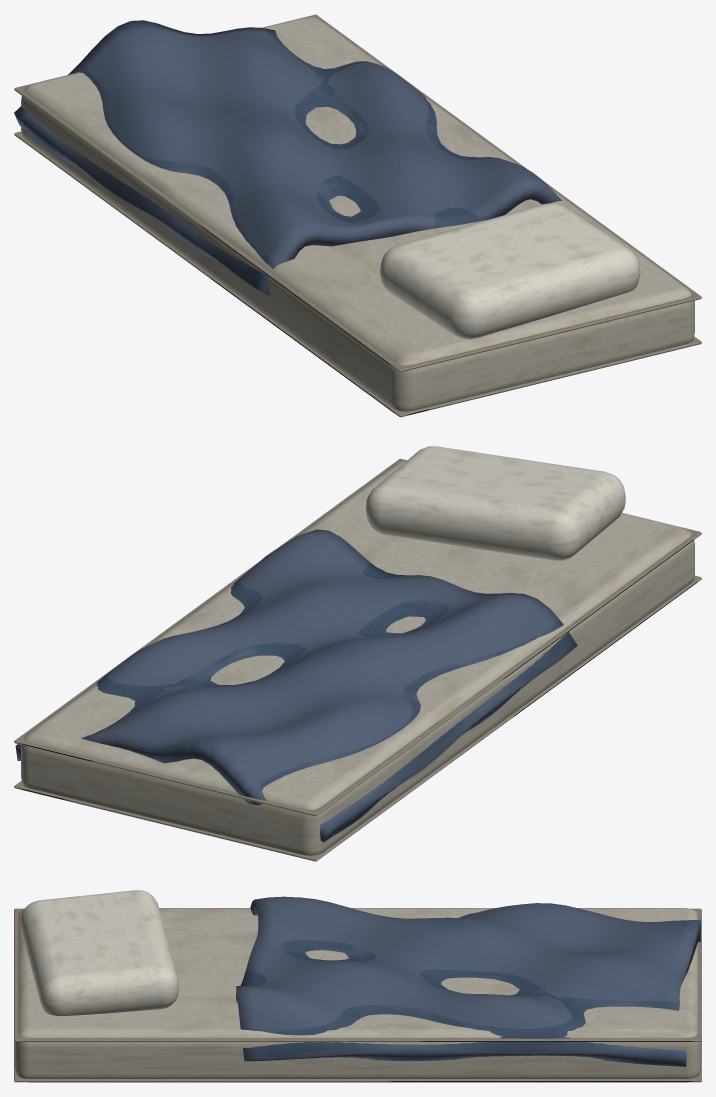
The model's file is dom_posciel.glb.
The picture shows the model from 3 angles, top to bottom: view 1: azimuth 30°, elevation 25°; view 2: azimuth 150°, elevation 25°; view 3: azimuth 270°, elevation 25°; orthographic projection. The views are drawn at different scales.
Visible parts, largest first — view 1: Koldra, Materac, Poduszka; view 2: Materac, Koldra, Poduszka; view 3: Koldra, Materac, Poduszka.
Part boxes in pixels (left/top/right/bottom): Koldra: left=14, top=20, right=562, bottom=295; Materac: left=14, top=14, right=701, bottom=417; Poduszka: left=380, top=203, right=640, bottom=338; Materac: left=14, top=458, right=701, bottom=861; Koldra: left=15, top=529, right=577, bottom=842; Poduszka: left=366, top=446, right=625, bottom=560; Koldra: left=236, top=896, right=700, bottom=1066; Materac: left=14, top=908, right=701, bottom=1082; Poduszka: left=20, top=890, right=178, bottom=1015.
Bounding box in the file's own units: 0.88 × 0.2894 × 1.87.
Materials: 3 (3 with a texture image).
